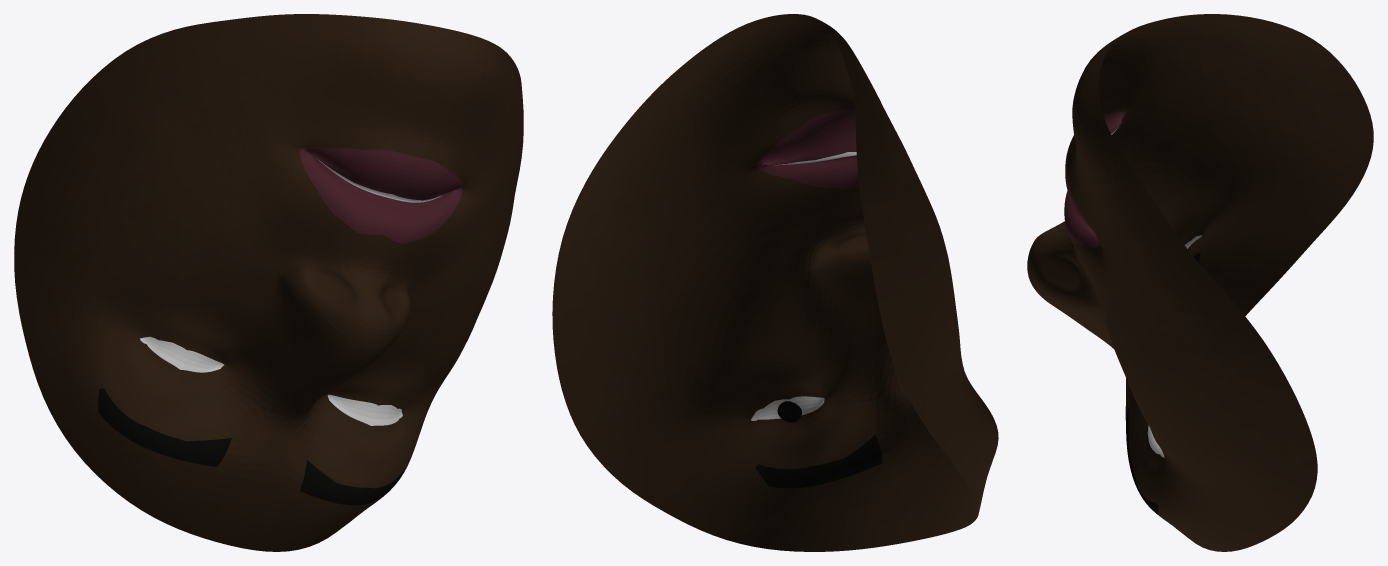
File: annoyed.obj
3 renders of one model, left to right at view 1: azimuth 30°, elevation 25°; view 2: azimuth 150°, elevation 25°; view 3: azimuth 270°, elevation 25°, orthographic. The views are drawn at different scales.
Parts seen in each view (by area): view 1: face_mesh_subdivided; view 2: face_mesh_subdivided; view 3: face_mesh_subdivided.
Boxes of the visible parts, left/top/right/bottom form: face_mesh_subdivided: left=14, top=14, right=523, bottom=551; face_mesh_subdivided: left=552, top=14, right=998, bottom=551; face_mesh_subdivided: left=1027, top=14, right=1373, bottom=551.
Size of the model in its own units: 0.64 by 0.7432 by 0.4603.
